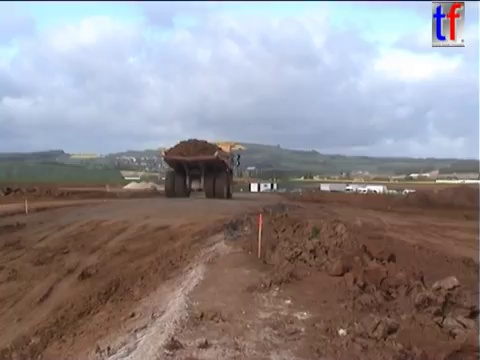truck: (158, 140, 241, 198)
